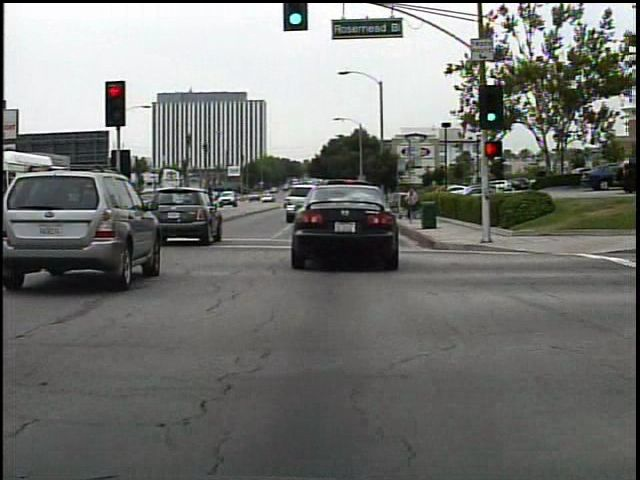person: (403, 185, 421, 225)
